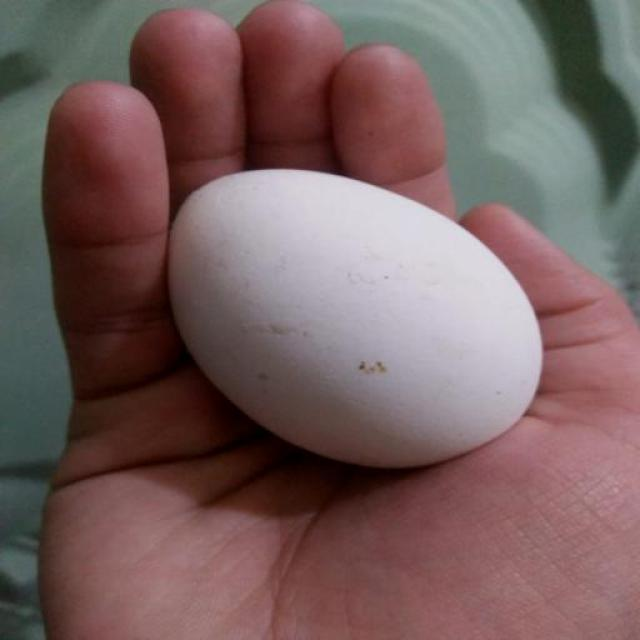telur: (174, 169, 544, 468)
